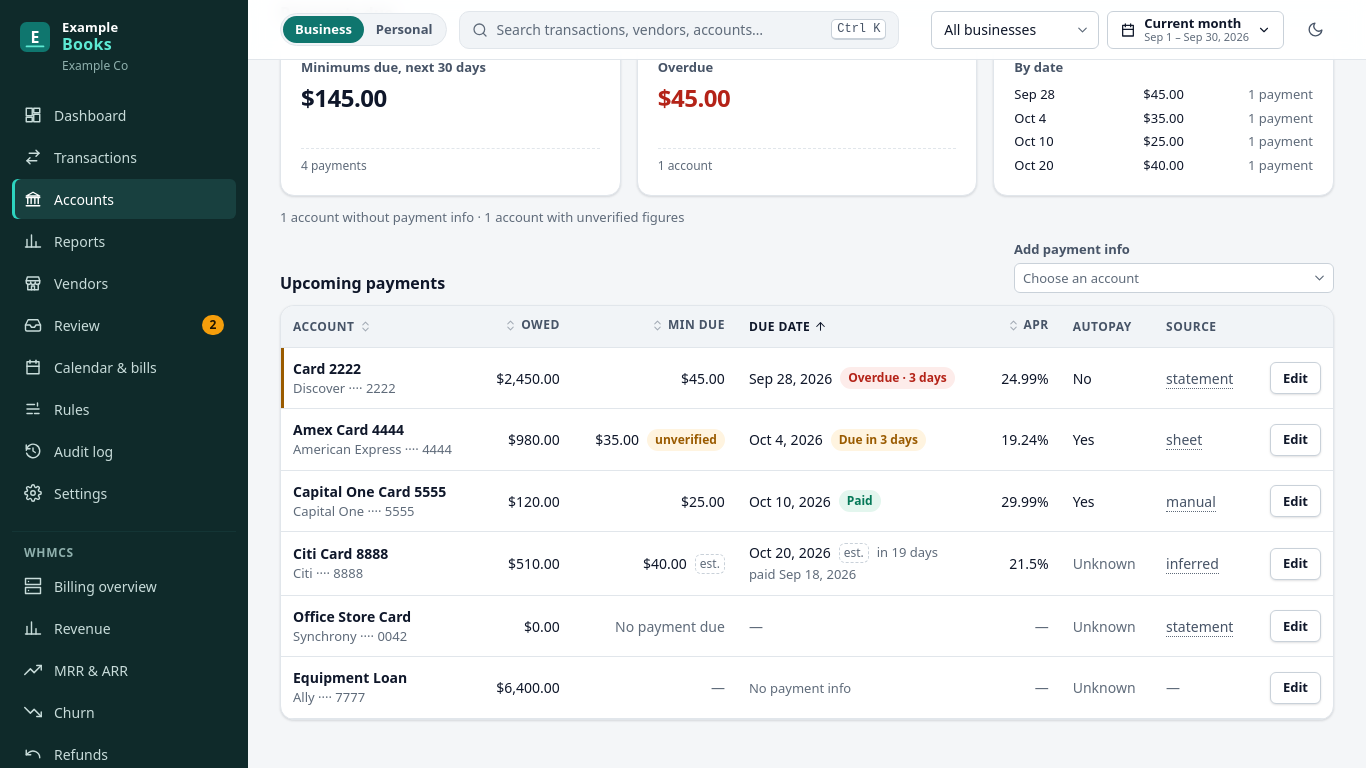
Scenario: payments on the business Accounts page › saves only the changed fields and refreshes the table
The width and height of the screenshot is (1366, 768).
(page scrolled)
Expected: the table named "Upcoming payments" is shown, [281,306,1333,719]
Click the button with aria-label "Edit payment info for Amex Card 4444": (1295, 440) [1270,424,1321,456]
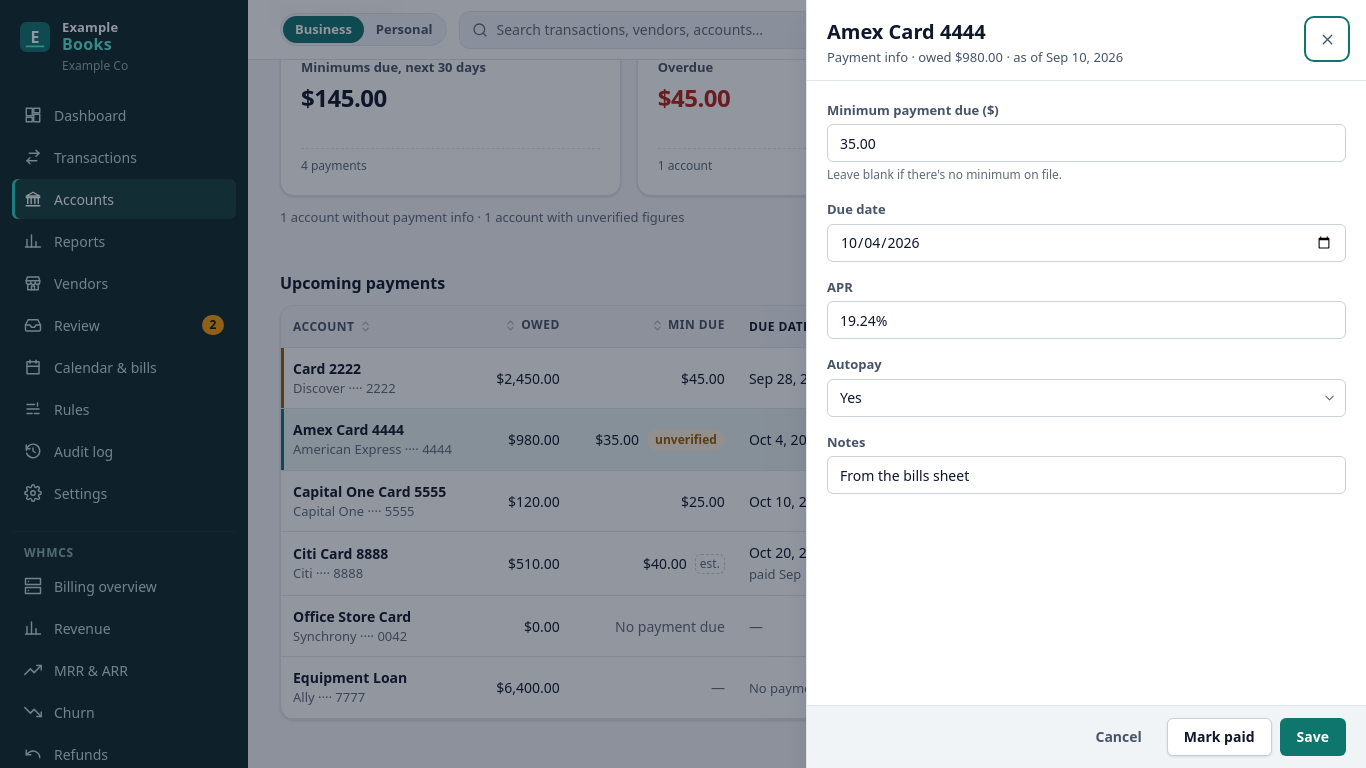
Result: the field labelled "Minimum payment due ($)" holds "35.00"
Result: the date field labelled "Due date" holds "2026-10-04" at [827,224,1346,262]
Result: the field labelled "Notes" holds "From the bills sheet" at [827,456,1346,494]
Replace the text in the field labelled "Minimum payment due ($)" with "224.00": (1086, 143) [827,124,1346,162]
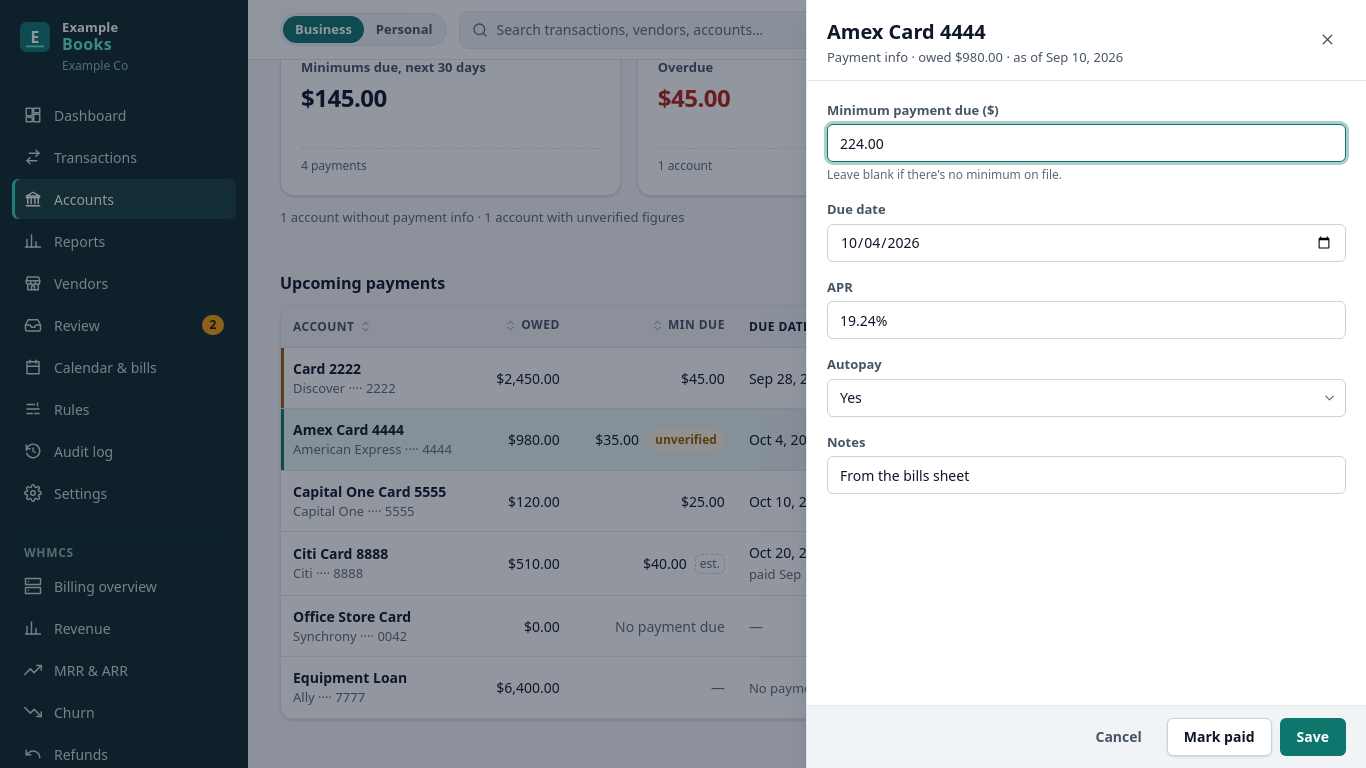
In the date field labelled "Due date": (1086, 242) [827,224,1346,262], type "2026-10-15"
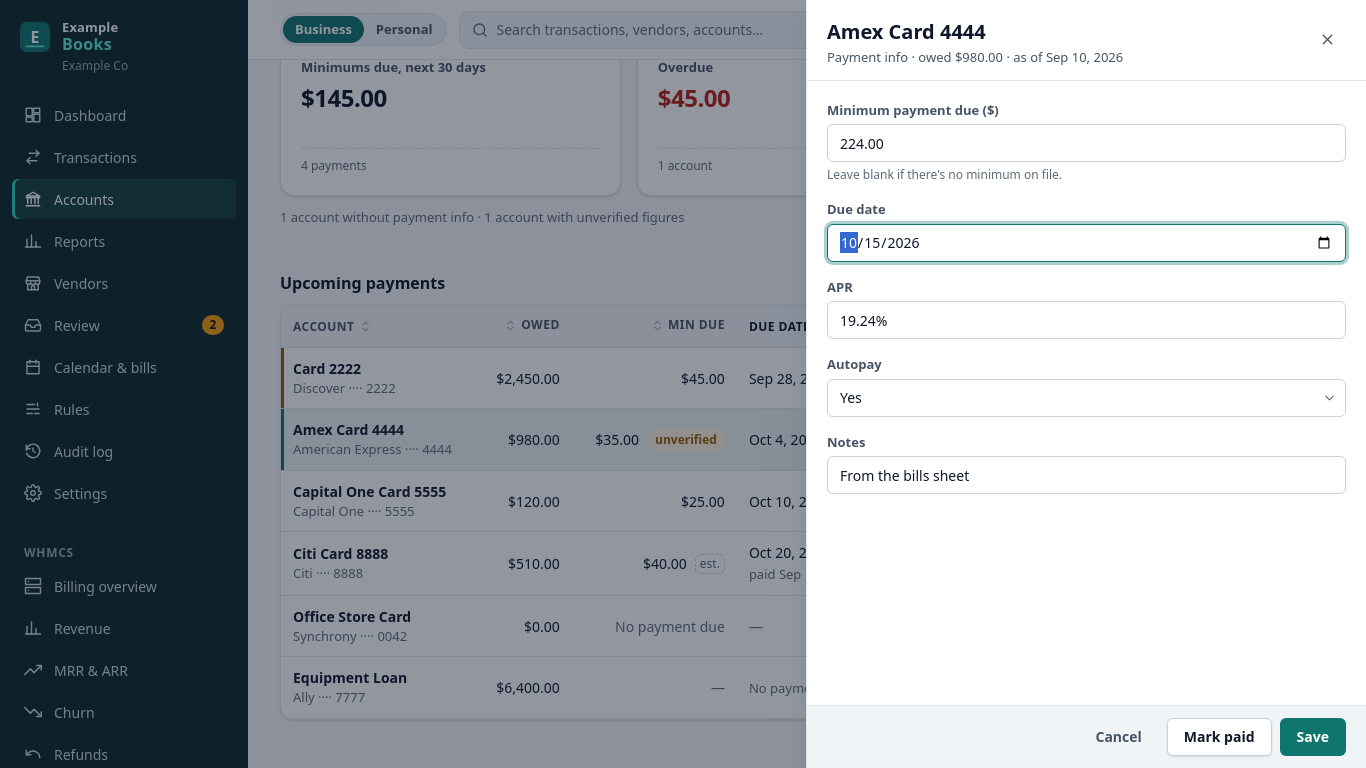
Replace the text in the field labelled "APR" with "18.5%": (1086, 320) [827,301,1346,339]
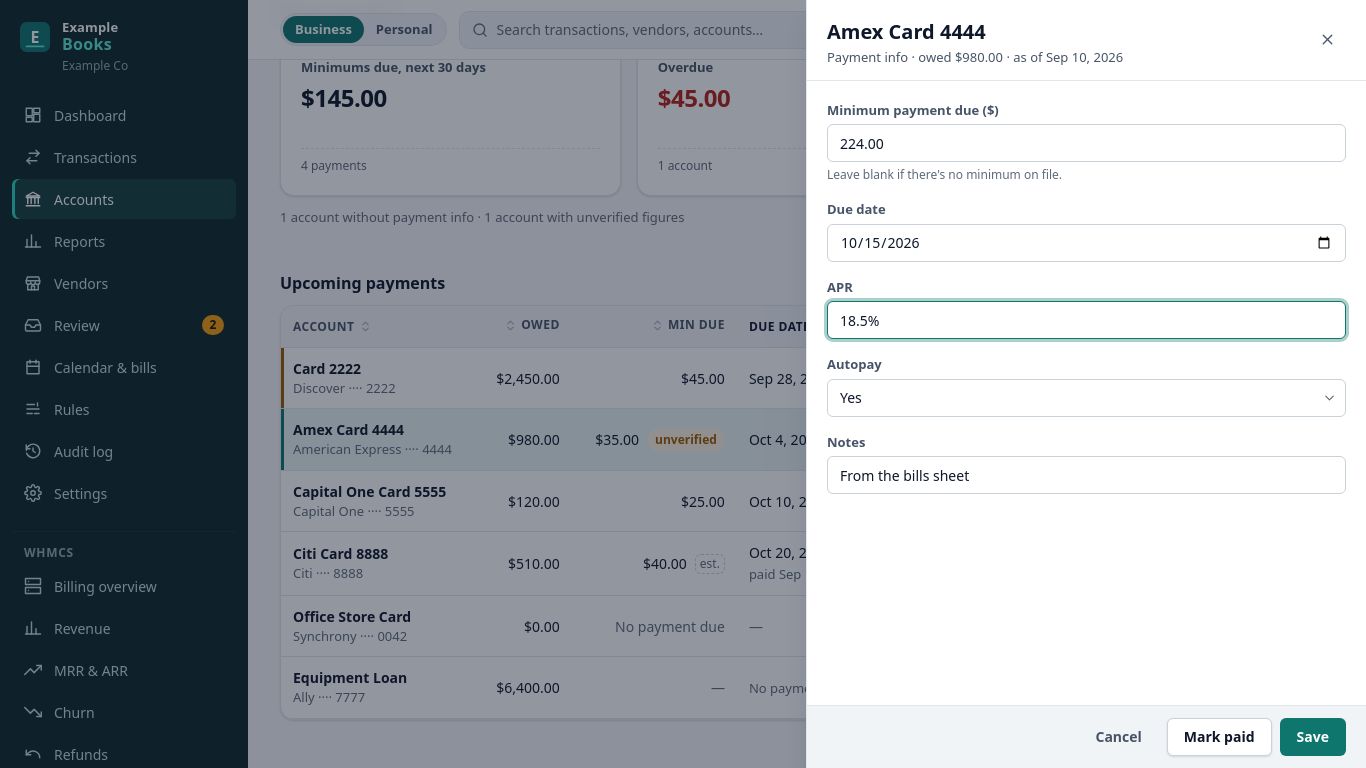
Select "No" in the dropdown labelled "Autopay": (1086, 398) [827,378,1346,416]
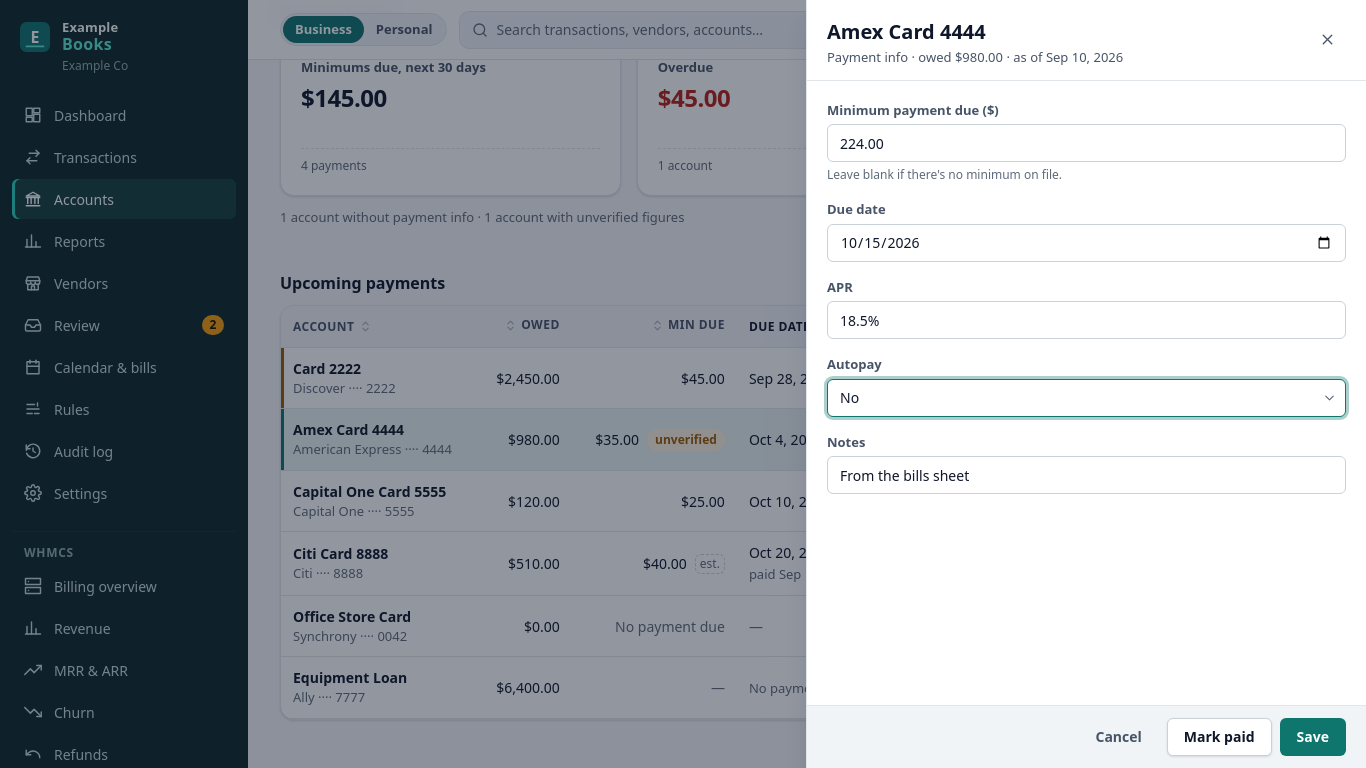
Click the button "Save": (1313, 737) [1280,718,1346,756]
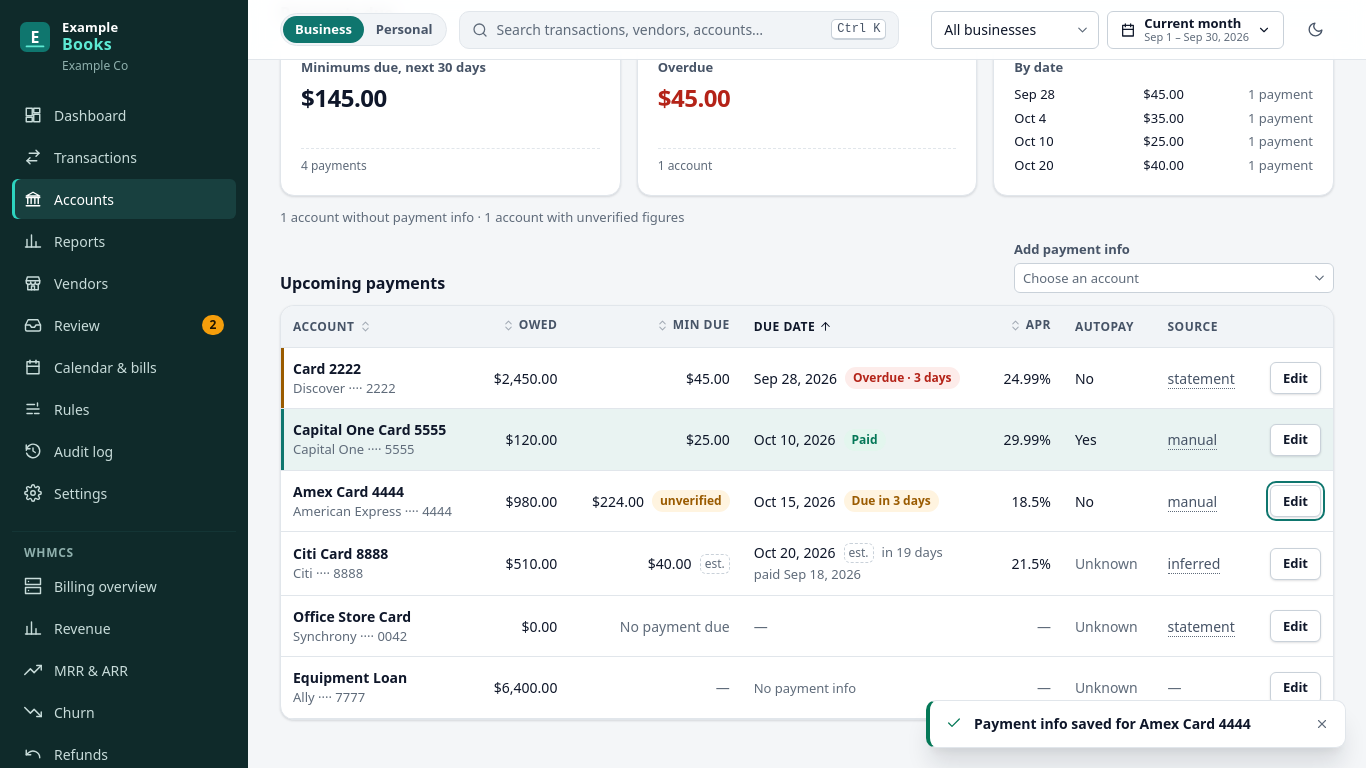
Result: the dialog is gone
Result: the text "$224.00" is shown at [592,491,644,512]
Result: the text "18.5%" is shown at [1012,492,1051,511]
